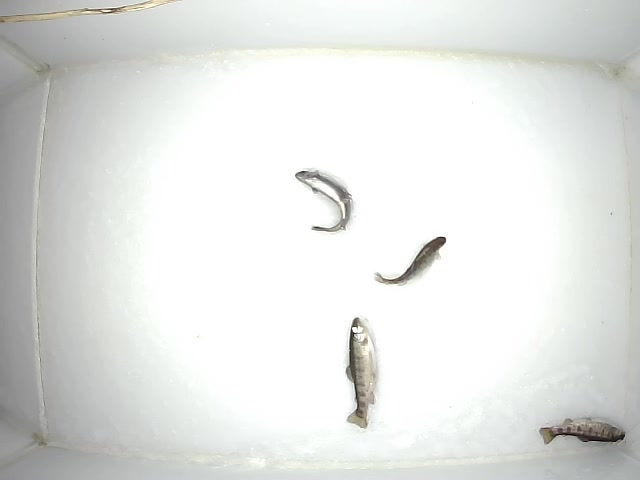fish: (341, 314, 379, 430), (371, 234, 445, 286), (296, 171, 353, 233), (536, 415, 626, 446)
